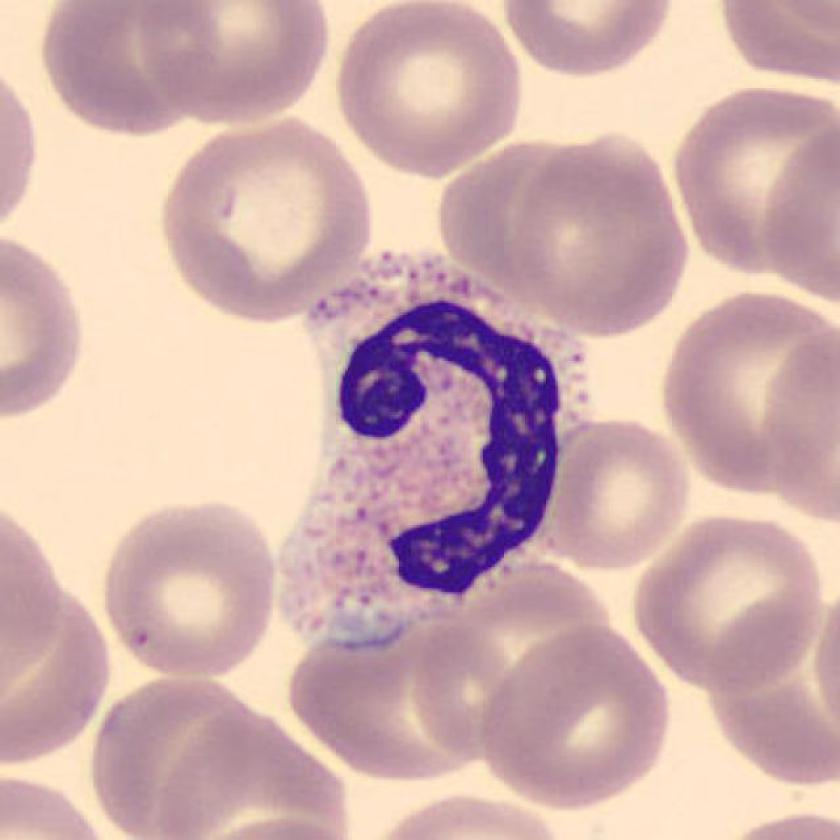neutrophil: (281, 253, 588, 643)
